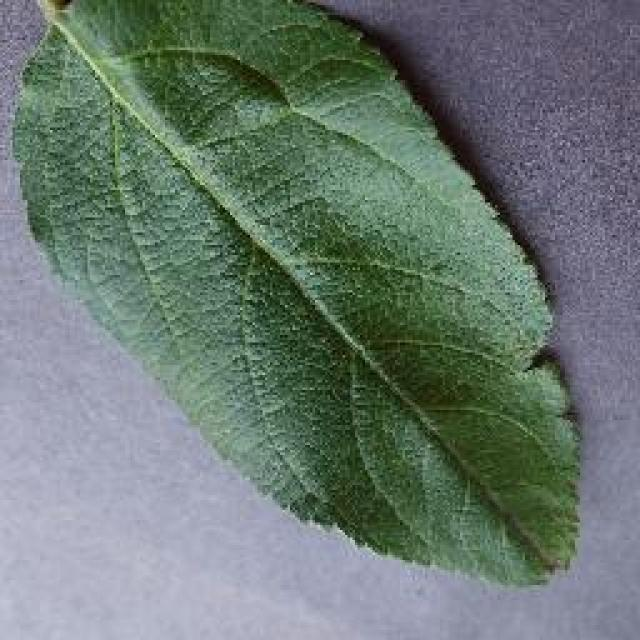apple healthy: (7, 0, 585, 590)
